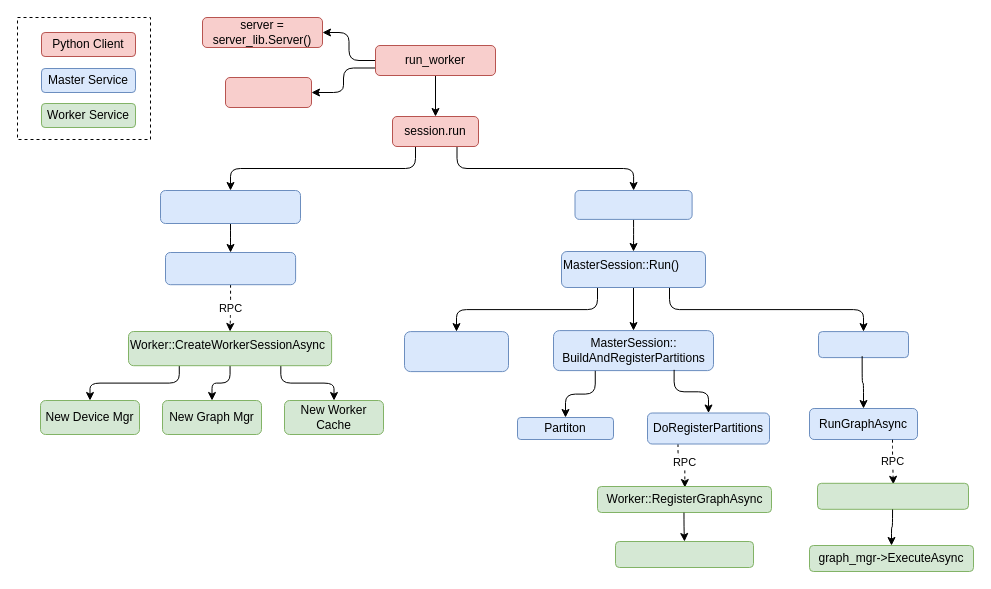
The diagram is 991 pixels wide and 589 high, and some of its shapes have lost their labels. Each missing label, with the box of its shape:
graph_mgr()->Register: (614, 540, 754, 568)
GrpcSession::CreateImpl: (160, 190, 300, 224)
GrpcSession::Run(): (574, 190, 692, 219)
MasterSession:: StartStep: (404, 331, 508, 372)
MasterSession::Create: (164, 252, 296, 285)
RunPartitions: (818, 331, 908, 358)
server.start: (224, 76, 312, 108)
Worker::RunGraphAsync: (816, 482, 968, 509)
